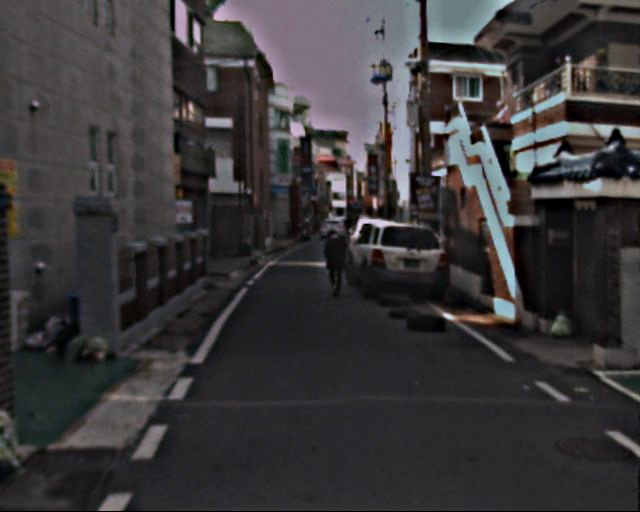person: (322, 229, 351, 299)
